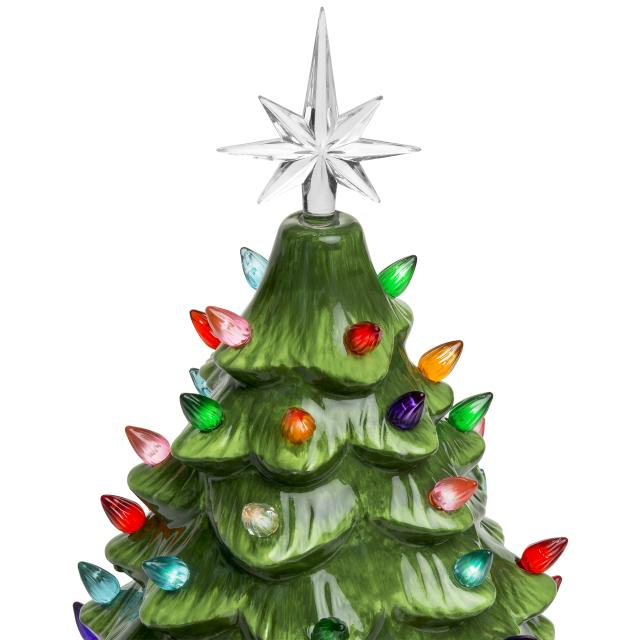Christmas-tree: (12, 2, 640, 640)
